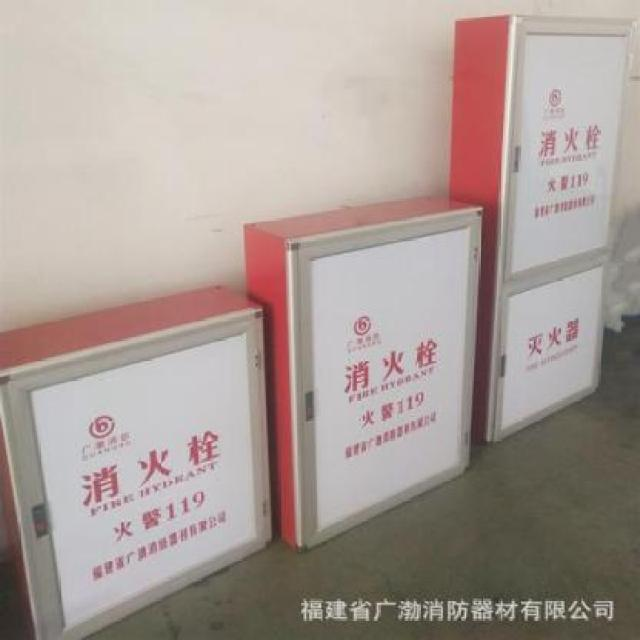firehydrant: (3, 274, 277, 639), (237, 191, 492, 556), (449, 11, 640, 448)
